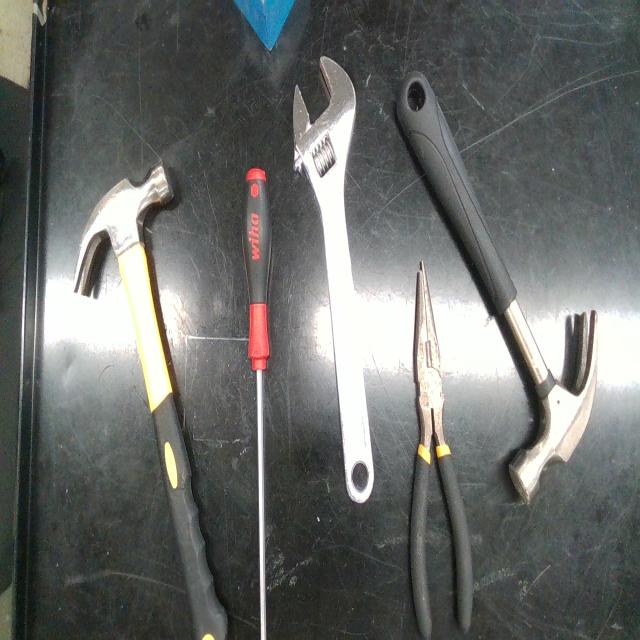Screwdriver: (242, 169, 271, 640)
